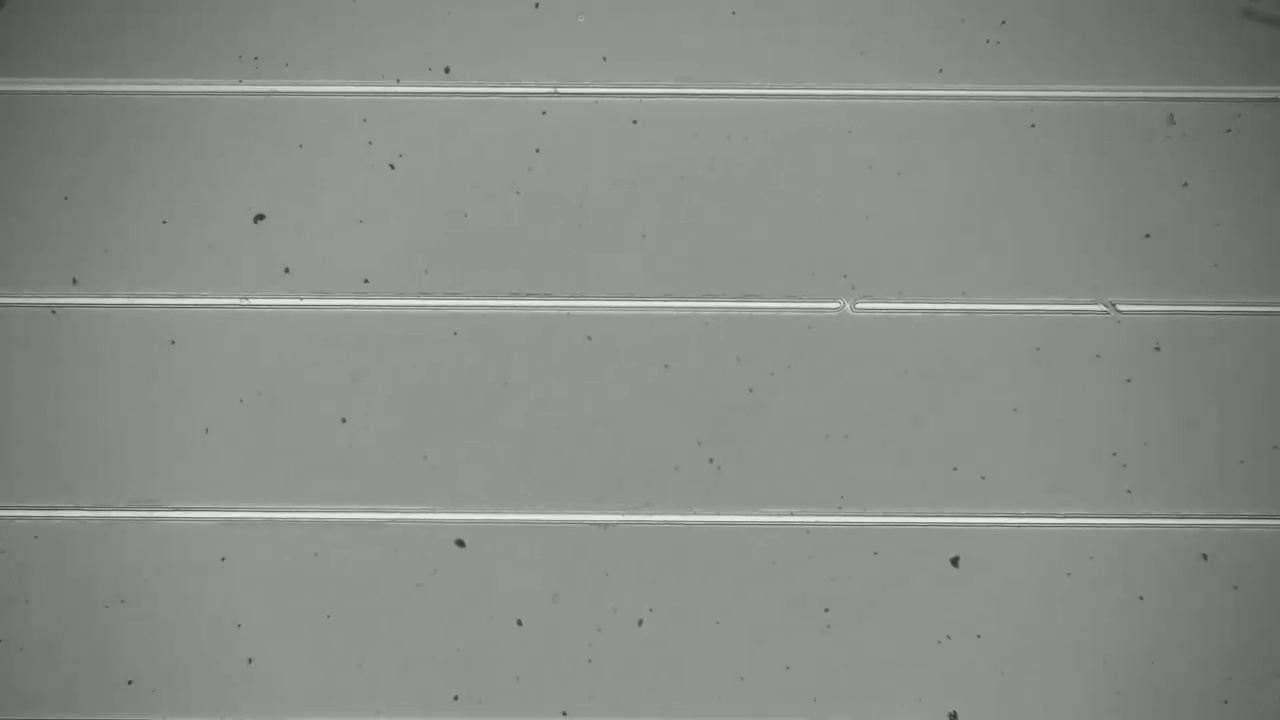open: (826, 286, 871, 322), (1093, 293, 1129, 324)
